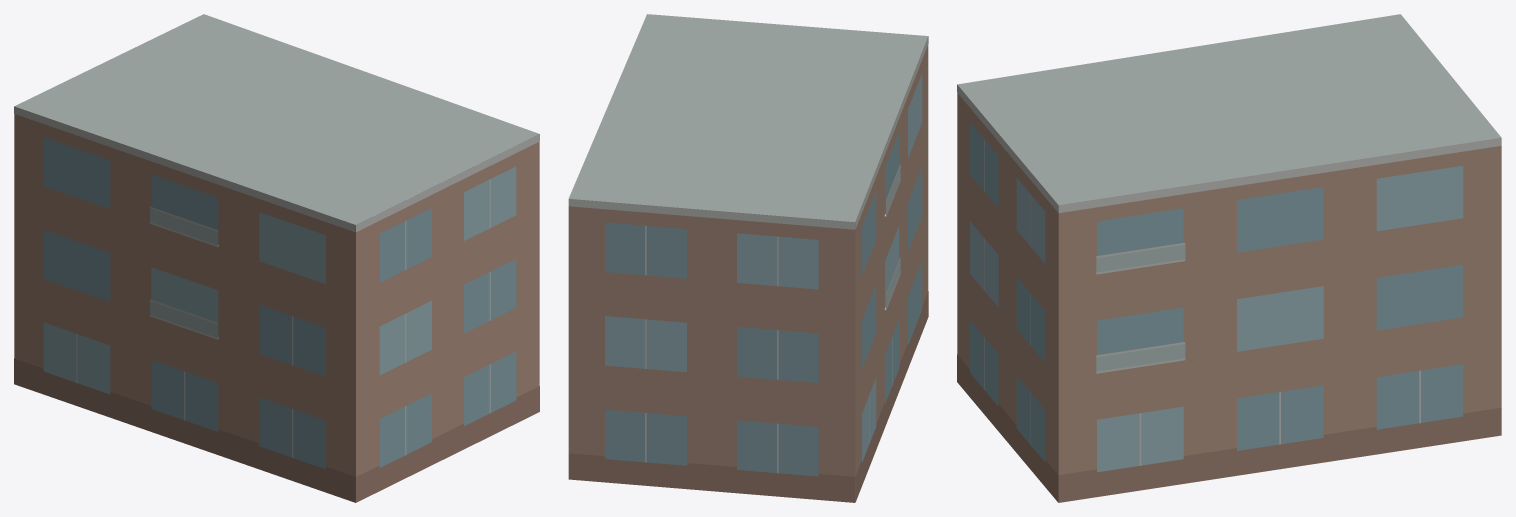
File: survey-upis-32853976.glb
3 views of the same model, side by side, from view 1: azimuth 30°, elevation 25°; view 2: azimuth 150°, elevation 25°; view 3: azimuth 270°, elevation 25° (orthographic). The views are drawn at different scales.
Parts seen in each view (by area): view 1: survey-upis-32853976.tmp; view 2: survey-upis-32853976.tmp; view 3: survey-upis-32853976.tmp.
Boxes of the visible parts, left/top/right/bottom form: survey-upis-32853976.tmp: left=14, top=14, right=539, bottom=502; survey-upis-32853976.tmp: left=568, top=14, right=928, bottom=502; survey-upis-32853976.tmp: left=957, top=14, right=1501, bottom=502.
Bounding box in the file's own units: 12.62 × 9.15 × 15.19.
